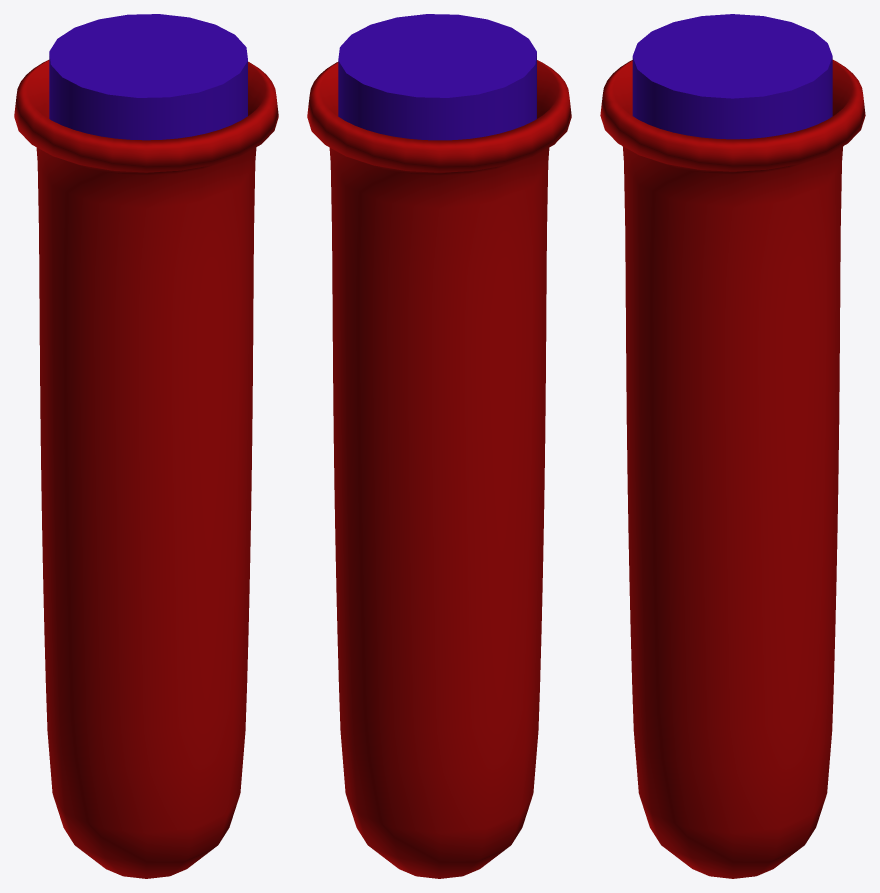
The model's file is TestTube2.fbx.
The picture shows the model from 3 angles, left to right: view 1: azimuth 30°, elevation 25°; view 2: azimuth 150°, elevation 25°; view 3: azimuth 270°, elevation 25°; orthographic projection.
Visible parts, largest first — view 1: TestTube2; view 2: TestTube2; view 3: TestTube2.
Part boxes in pixels (<box>): TestTube2: <box>14,14,278,878</box>; TestTube2: <box>307,14,571,878</box>; TestTube2: <box>600,14,865,878</box>.
Bounding box in the file's own units: 6.67 × 22.39 × 6.67.
